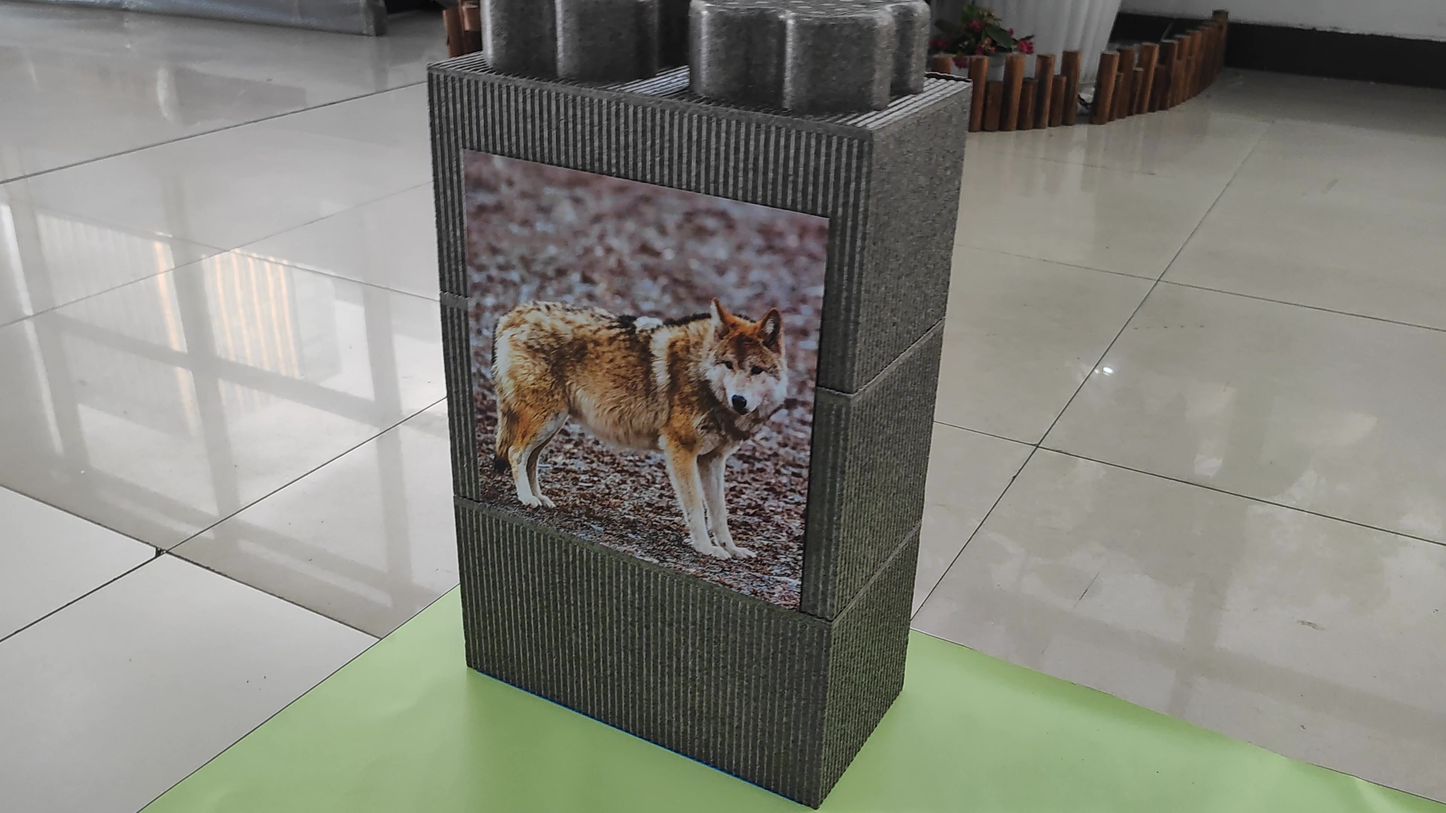wolf: (463, 244, 781, 573)
